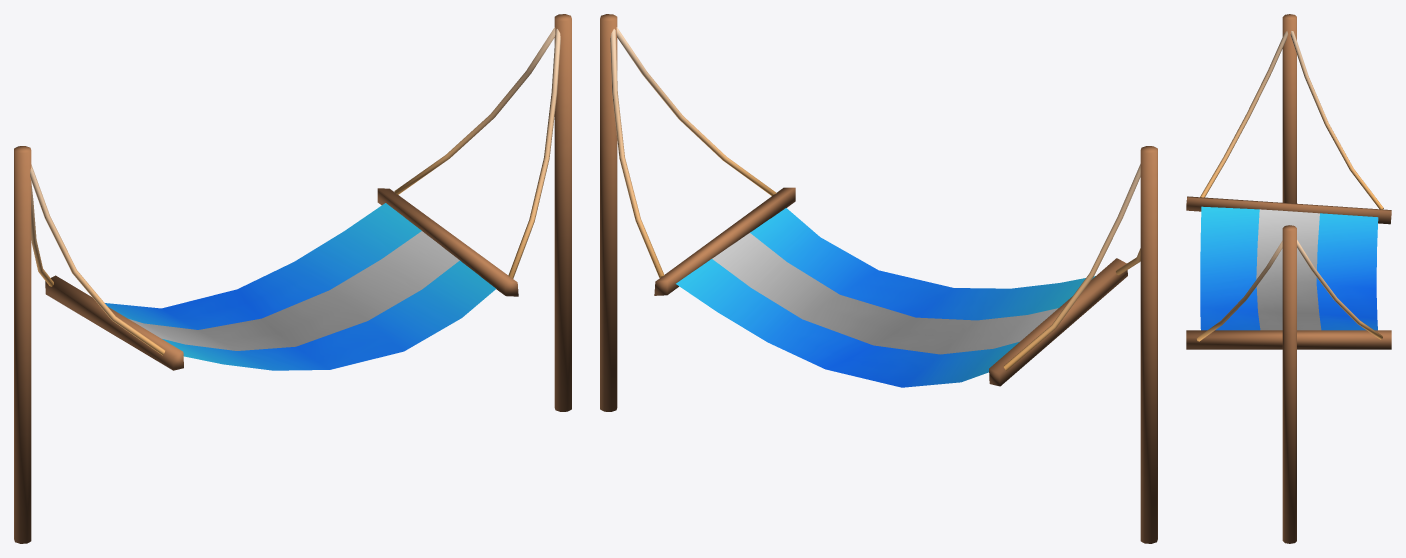
File: hamacaPalos.fbx
3 views of the same model, side by side, from view 1: azimuth 30°, elevation 25°; view 2: azimuth 150°, elevation 25°; view 3: azimuth 270°, elevation 25° (orthographic). The views are drawn at different scales.
Visible parts, largest first — view 1: hamacaPalos; view 2: hamacaPalos; view 3: hamacaPalos.
Part boxes in pixels (x1,y1,x2,y2): hamacaPalos: (14,14,571,543); hamacaPalos: (600,14,1157,543); hamacaPalos: (1186,14,1391,543).
Bounding box in the file's own units: 262 × 176 × 105.
Materials: 1 (1 with a texture image).
